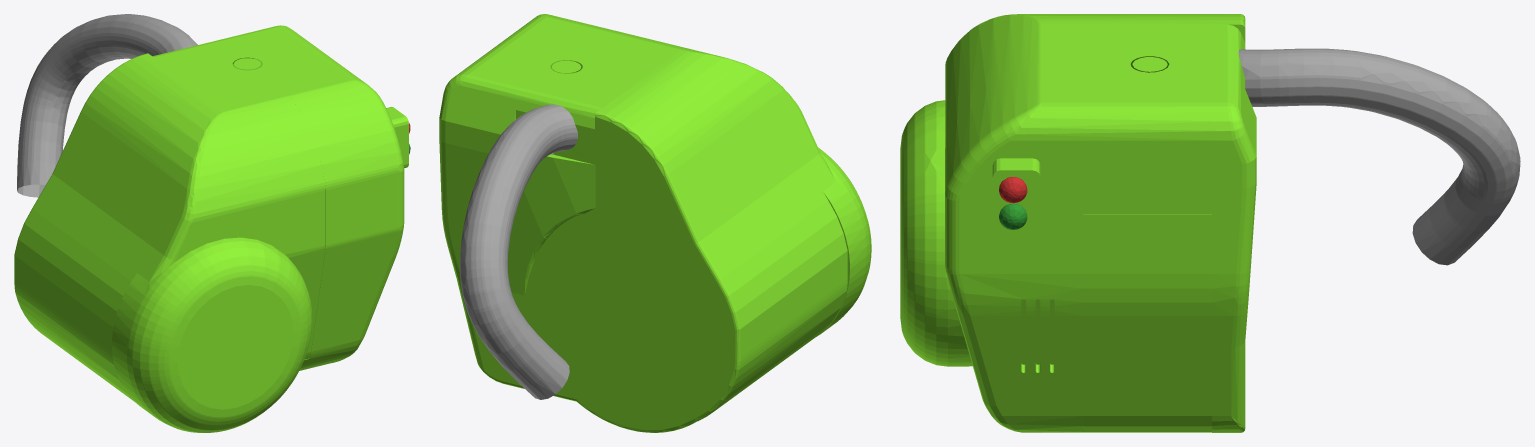
The picture shows the model from 3 angles, left to right: view 1: azimuth 30°, elevation 25°; view 2: azimuth 150°, elevation 25°; view 3: azimuth 270°, elevation 25°; orthographic projection. The views are drawn at different scales.
Visible parts, largest first — view 1: node; view 2: node; view 3: node.
Boxes of the visible parts, x1=… form: node: x1=14, y1=14, x2=410, y2=432; node: x1=439, y1=14, x2=871, y2=432; node: x1=900, y1=14, x2=1520, y2=432.
Bounding box in the file's own units: 477 × 426 × 651.
